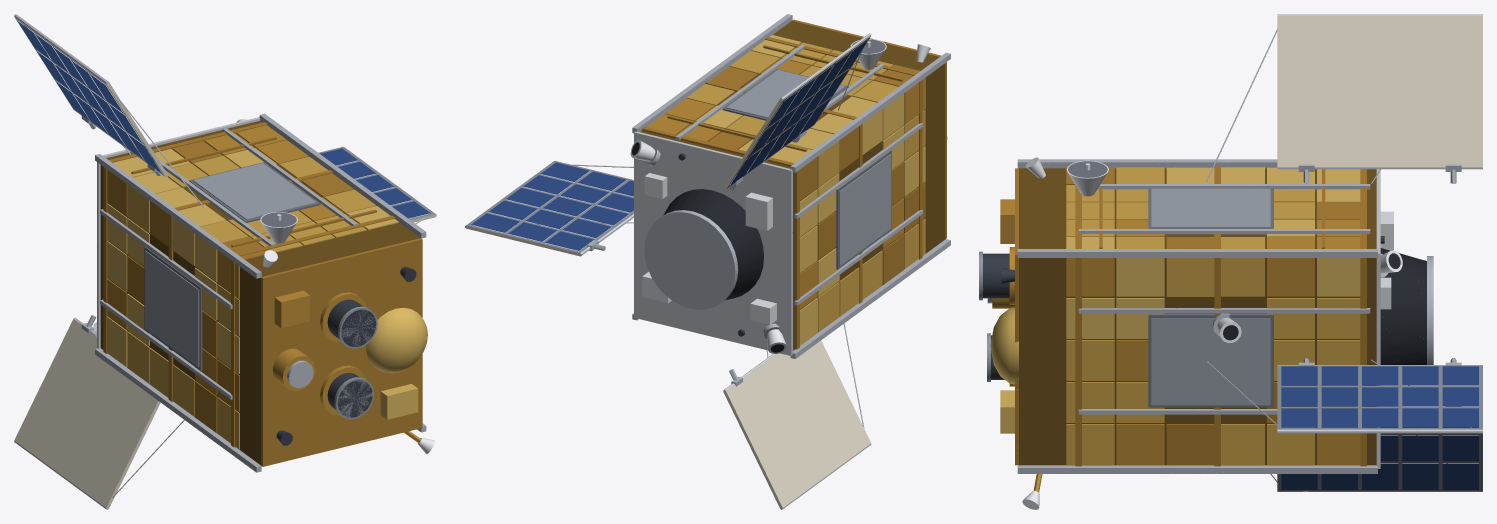
File: spot67.glb
The picture shows the model from 3 angles, left to right: view 1: azimuth 30°, elevation 25°; view 2: azimuth 150°, elevation 25°; view 3: azimuth 270°, elevation 25°; orthographic projection. The views are drawn at different scales.
Parts seen in each view (by area): view 1: foil, body, solar-panel; view 2: foil, body, solar-panel; view 3: foil, body, solar-panel.
Part boxes in pixels (x1,y1,x2,y2): foil: (97,117,427,466); body: (14,17,435,508); solar-panel: (14,14,436,509); foil: (634,19,947,355); body: (466,14,950,508); solar-panel: (465,33,871,509); foil: (987,166,1397,468); body: (979,15,1482,509); solar-panel: (1223,14,1482,491).
Bounding box in the file's own units: 3.21 × 3.98 × 3.8.
